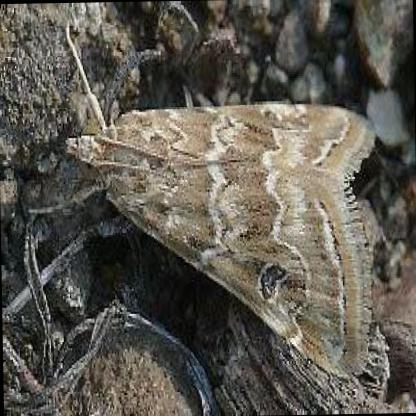Hellula undalis: (59, 15, 384, 380)
